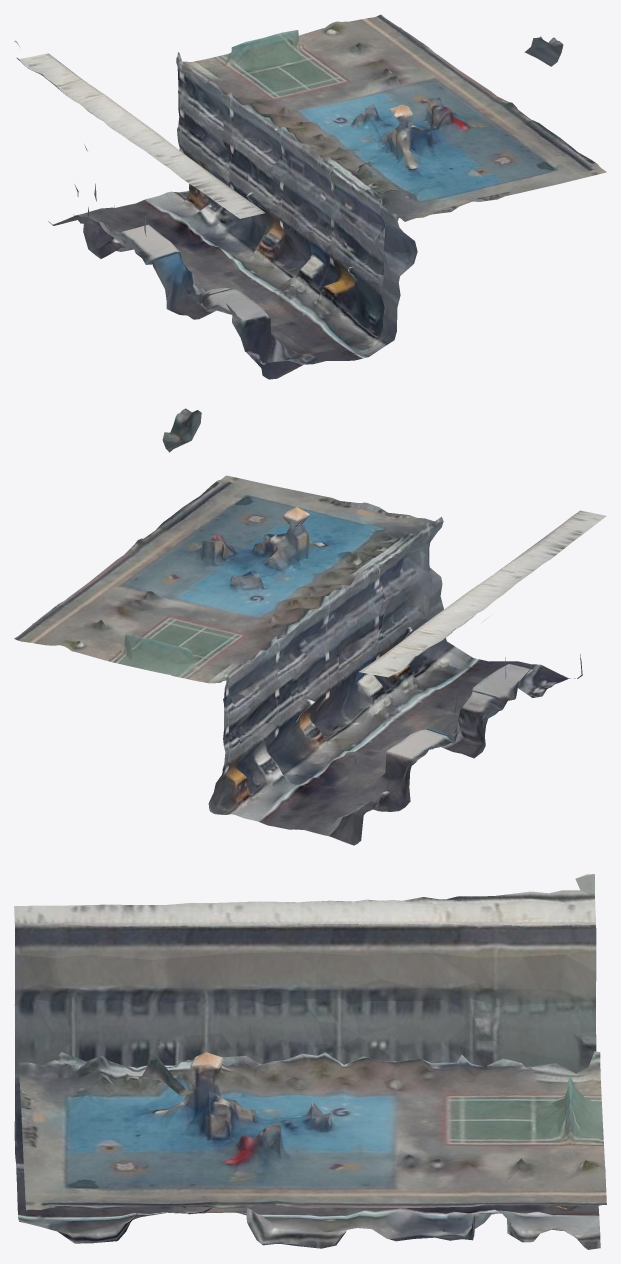
The model's file is Tile_+011_+009_L20_000002000.glb.
3 renders of one model, top to bottom at view 1: azimuth 30°, elevation 25°; view 2: azimuth 150°, elevation 25°; view 3: azimuth 270°, elevation 25°, orthographic. The views are drawn at different scales.
Visible parts, largest first — view 1: rtc; view 2: rtc; view 3: rtc.
Boxes of the visible parts, left/top/right/bottom form: rtc: left=14, top=14, right=606, bottom=379; rtc: left=14, top=408, right=606, bottom=845; rtc: left=14, top=874, right=606, bottom=1249.
Bounding box in the file's own units: 32.14 × 18.81 × 32.68.
1 material, 1 textured.
